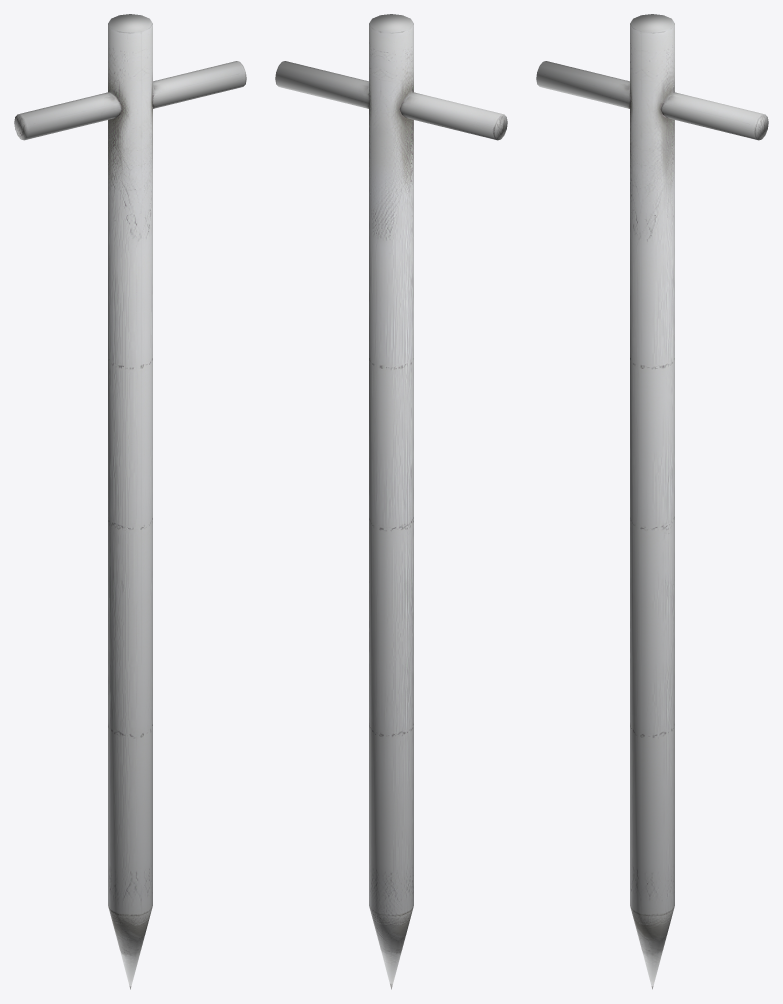
Rendered from Meshy_AI__0602175907_texture.glb.
3 views of the same model, side by side, from view 1: azimuth 30°, elevation 25°; view 2: azimuth 150°, elevation 25°; view 3: azimuth 330°, elevation 25° (orthographic).
Bounding box in the file's own units: 0.4744 × 2 × 0.084.
Materials: 1 (1 with a texture image).
